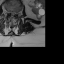CCS_normal: (11, 9, 13, 19)
LFS_normal: (15, 9, 17, 16)
LLS_normal: (13, 9, 15, 17)
RFS_stenosis: (7, 8, 9, 15)
RLS_stenosis: (9, 9, 11, 16)
